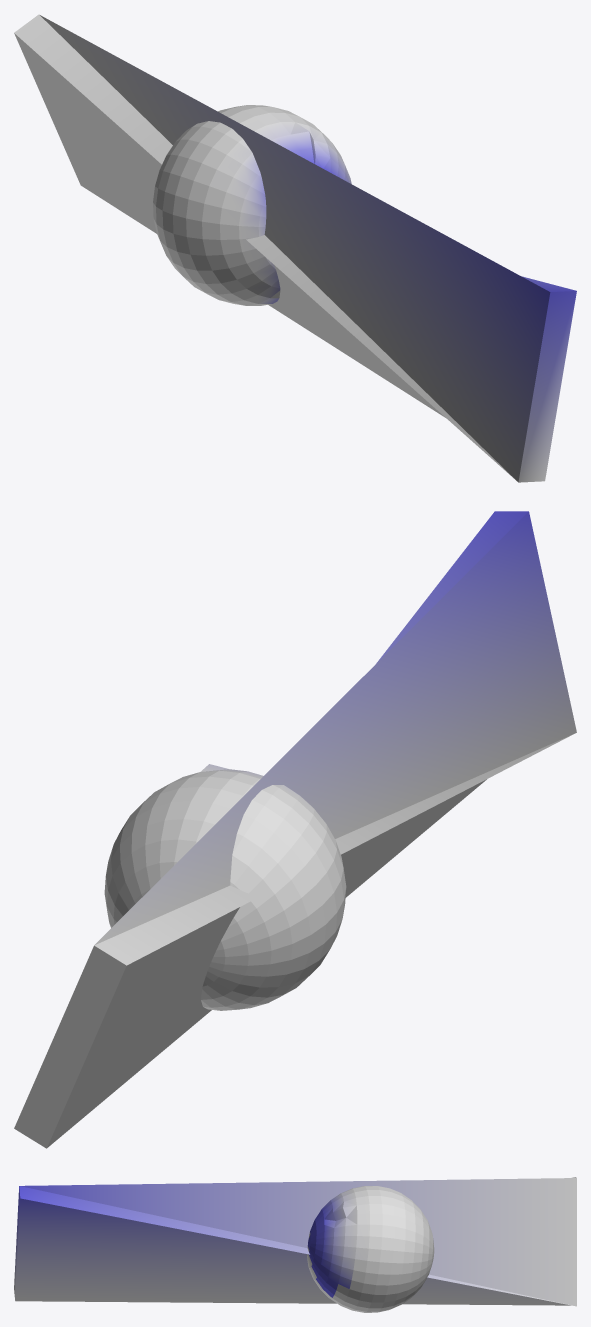
File: mymod.dae
3 views of the same model, one above another, from view 1: azimuth 30°, elevation 25°; view 2: azimuth 150°, elevation 25°; view 3: azimuth 270°, elevation 25° (orthographic). The views are drawn at different scales.
Visible parts, largest first — view 1: Cube; view 2: Cube; view 3: Cube.
Boxes of the visible parts, bbox=[...] form: Cube: bbox=[14, 14, 576, 482]; Cube: bbox=[14, 511, 576, 1148]; Cube: bbox=[14, 1177, 576, 1312].
Size of the model in its own units: 1.99 by 8.75 by 2.23.
